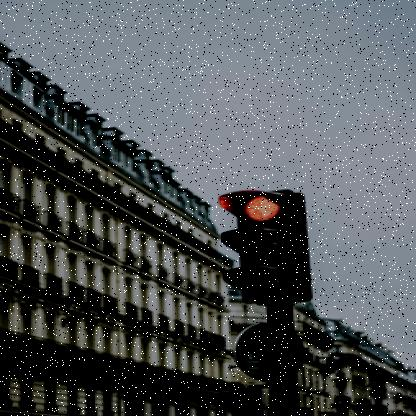trafficlight: (218, 185, 316, 299)
